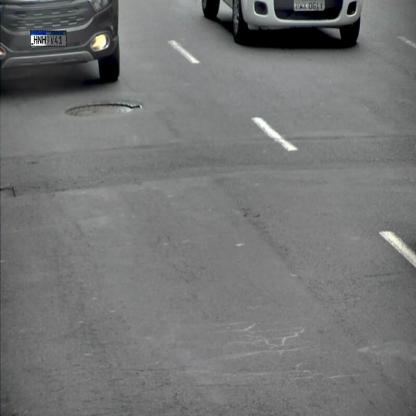PlacaM: (30, 30, 67, 46)
